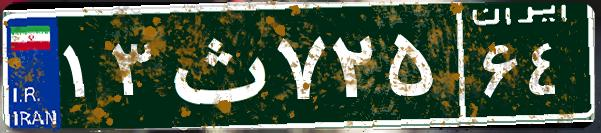1: (57, 26, 110, 107)
2: (330, 28, 385, 110)
3: (110, 28, 158, 105)
4: (525, 38, 570, 115)
5: (385, 28, 445, 110)
6: (475, 38, 525, 113)
7: (273, 28, 330, 110)
ث: (158, 15, 273, 115)
